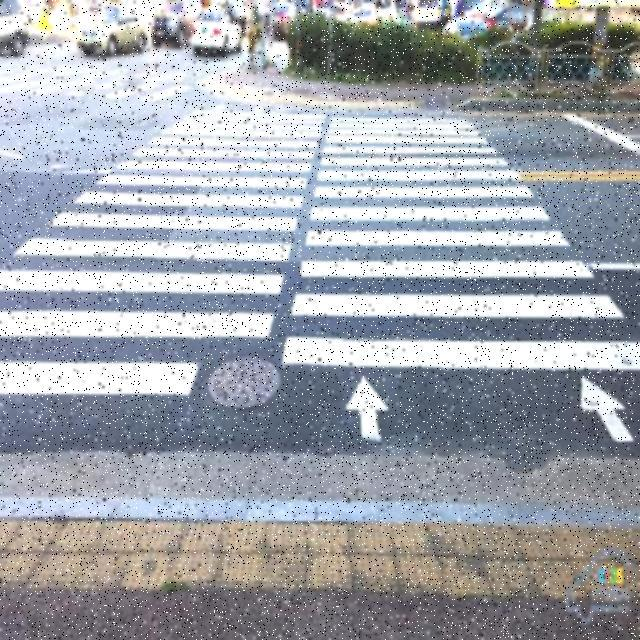crosswalk: (0, 103, 638, 404), (0, 60, 189, 104)
